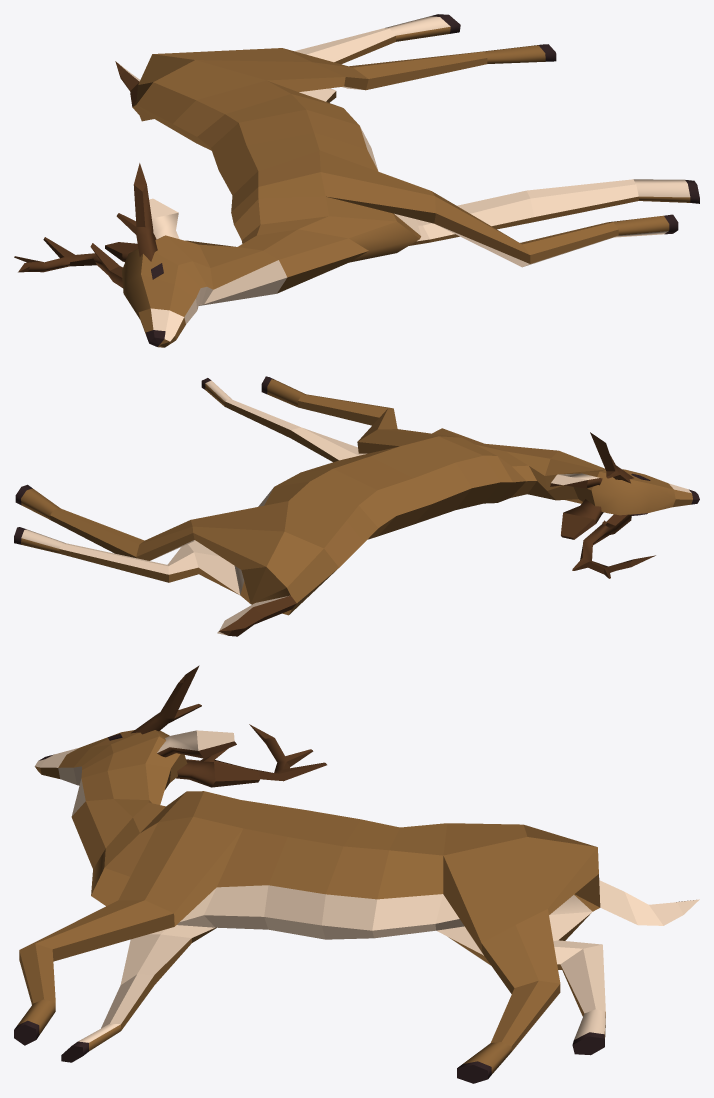
File: Roadkill_Deer.fbx
3 views of the same model, one above another, from view 1: azimuth 30°, elevation 25°; view 2: azimuth 150°, elevation 25°; view 3: azimuth 270°, elevation 25° (orthographic). The views are drawn at different scales.
Parts seen in each view (by area): view 1: Geo_Deer.001; view 2: Geo_Deer.001; view 3: Geo_Deer.001.
Part boxes in pixels (left/top/right/bottom): Geo_Deer.001: left=14, top=14, right=699, bottom=347; Geo_Deer.001: left=14, top=376, right=699, bottom=636; Geo_Deer.001: left=14, top=665, right=699, bottom=1083.
Size of the model in its own units: 554 by 113 by 472.
